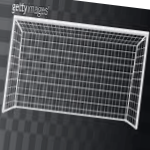goals: (1, 14, 150, 133)
